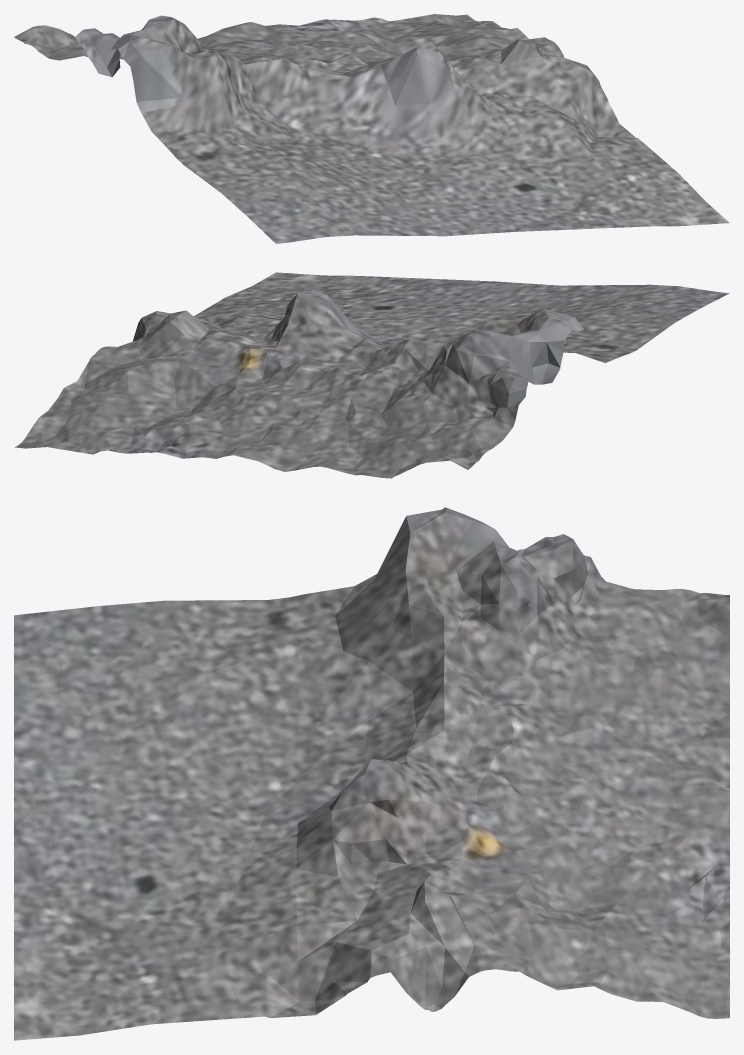
3 renders of one model, top to bottom at view 1: azimuth 30°, elevation 25°; view 2: azimuth 150°, elevation 25°; view 3: azimuth 270°, elevation 25°, orthographic. The views are drawn at different scales.
Size of the model in its own units: 0.8373 by 0.3094 by 0.8374.
Materials: 3 (3 with a texture image).
